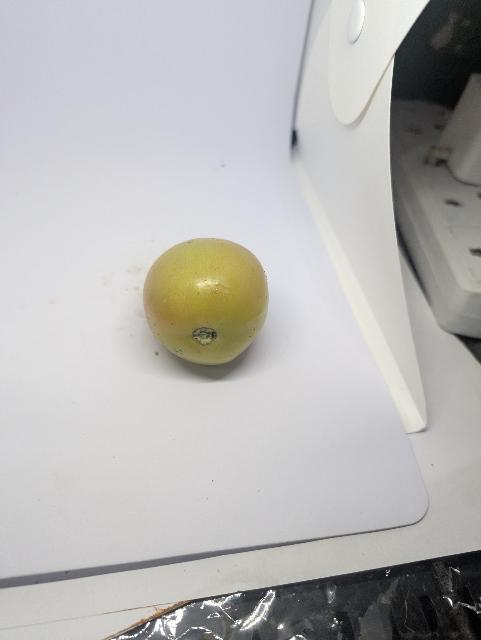breaker: (137, 233, 278, 373)
